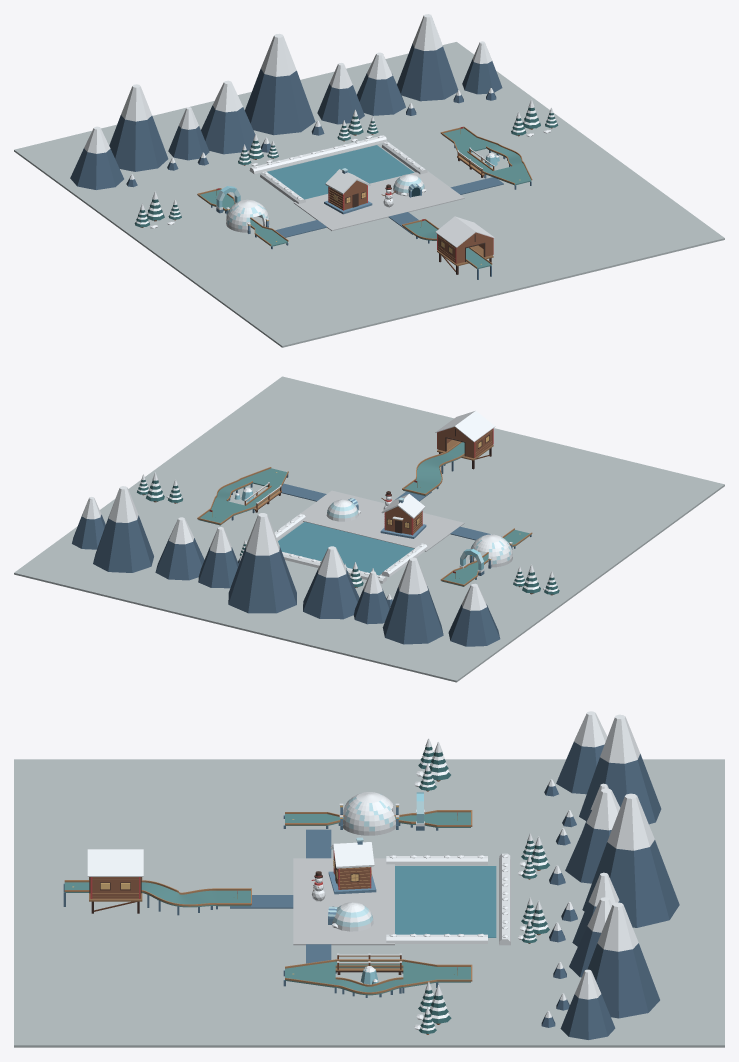
The model's file is district.glb.
3 views of the same model, one above another, from view 1: azimuth 30°, elevation 25°; view 2: azimuth 150°, elevation 25°; view 3: azimuth 270°, elevation 25° (orthographic). The views are drawn at different scales.
Visible parts, largest first — view 1: Frosty_District_Dressing, DistrictScenery_3__Frosty_MountainBackdrop_Standard, DistrictScenery_4__Frosty_MountainBackdrop_Standard, DistrictScenery_5__Frosty_MountainBackdrop_Standard, IcebergChoice__Frosty_IcebergChoice_Surface, DistrictScenery_0__Frosty_Cabin_Standard, LodgeBalcony_1__Frosty_LodgeRoof_Standard, LodgeBalcony_0__Frosty_LodgeGatehouse_Standard, DistrictScenery_7__Frosty_SnowyPineGrove_Standard, DistrictScenery_6__Frosty_SnowyPineGrove_Standard, IglooPassage__Frosty_IglooPassage_Surface, LodgeBalcony__Frosty_LodgeBalcony_Surface (+4 smaller); view 2: Frosty_District_Dressing, DistrictScenery_3__Frosty_MountainBackdrop_Standard, DistrictScenery_4__Frosty_MountainBackdrop_Standard, DistrictScenery_5__Frosty_MountainBackdrop_Standard, IcebergChoice__Frosty_IcebergChoice_Surface, DistrictScenery_0__Frosty_Cabin_Standard, LodgeBalcony__Frosty_LodgeBalcony_Surface, LodgeBalcony_1__Frosty_LodgeRoof_Standard, LodgeBalcony_0__Frosty_LodgeGatehouse_Standard, IglooPassage__Frosty_IglooPassage_Surface, DistrictScenery_6__Frosty_SnowyPineGrove_Standard, DistrictScenery_7__Frosty_SnowyPineGrove_Standard (+3 smaller); view 3: Frosty_District_Dressing, DistrictScenery_3__Frosty_MountainBackdrop_Standard, DistrictScenery_5__Frosty_MountainBackdrop_Standard, DistrictScenery_4__Frosty_MountainBackdrop_Standard, IcebergChoice__Frosty_IcebergChoice_Surface, DistrictScenery_0__Frosty_Cabin_Standard, LodgeBalcony__Frosty_LodgeBalcony_Surface, LodgeBalcony_1__Frosty_LodgeRoof_Standard, IcebergChoice__Frosty_IcebergChoice_Rails, IglooPassage__Frosty_IglooPassage_Surface, LodgeBalcony_0__Frosty_LodgeGatehouse_Standard, DistrictScenery_1__Frosty_Igloo_Standard (+9 smaller).
Part boxes in pixels (bbox=[...]): Frosty_District_Dressing: bbox=[14, 42, 724, 347]; DistrictScenery_3__Frosty_MountainBackdrop_Standard: bbox=[201, 33, 364, 154]; DistrictScenery_4__Frosty_MountainBackdrop_Standard: bbox=[70, 84, 209, 189]; DistrictScenery_5__Frosty_MountainBackdrop_Standard: bbox=[357, 14, 502, 115]; IcebergChoice__Frosty_IcebergChoice_Surface: bbox=[442, 128, 531, 185]; DistrictScenery_0__Frosty_Cabin_Standard: bbox=[324, 168, 372, 214]; LodgeBalcony_1__Frosty_LodgeRoof_Standard: bbox=[435, 216, 495, 247]; LodgeBalcony_0__Frosty_LodgeGatehouse_Standard: bbox=[437, 234, 493, 263]; DistrictScenery_7__Frosty_SnowyPineGrove_Standard: bbox=[511, 99, 558, 136]; DistrictScenery_6__Frosty_SnowyPineGrove_Standard: bbox=[134, 191, 181, 228]; IglooPassage__Frosty_IglooPassage_Surface: bbox=[198, 189, 287, 246]; LodgeBalcony__Frosty_LodgeBalcony_Surface: bbox=[403, 220, 491, 269]; Frosty_District_Dressing: bbox=[14, 376, 724, 682]; DistrictScenery_3__Frosty_MountainBackdrop_Standard: bbox=[198, 513, 359, 619]; DistrictScenery_4__Frosty_MountainBackdrop_Standard: bbox=[353, 557, 500, 646]; DistrictScenery_5__Frosty_MountainBackdrop_Standard: bbox=[72, 486, 204, 580]; IcebergChoice__Frosty_IcebergChoice_Surface: bbox=[198, 468, 287, 525]; DistrictScenery_0__Frosty_Cabin_Standard: bbox=[380, 494, 426, 538]; LodgeBalcony__Frosty_LodgeBalcony_Surface: bbox=[403, 442, 464, 495]; LodgeBalcony_1__Frosty_LodgeRoof_Standard: bbox=[435, 410, 495, 442]; LodgeBalcony_0__Frosty_LodgeGatehouse_Standard: bbox=[437, 428, 493, 458]; IglooPassage__Frosty_IglooPassage_Surface: bbox=[441, 530, 530, 586]; DistrictScenery_6__Frosty_SnowyPineGrove_Standard: bbox=[513, 564, 559, 595]; DistrictScenery_7__Frosty_SnowyPineGrove_Standard: bbox=[137, 472, 182, 503]; Frosty_District_Dressing: bbox=[14, 759, 724, 1047]; DistrictScenery_3__Frosty_MountainBackdrop_Standard: bbox=[549, 788, 679, 946]; DistrictScenery_5__Frosty_MountainBackdrop_Standard: bbox=[541, 897, 659, 1039]; DistrictScenery_4__Frosty_MountainBackdrop_Standard: bbox=[544, 711, 661, 845]; IcebergChoice__Frosty_IcebergChoice_Surface: bbox=[285, 961, 470, 995]; DistrictScenery_0__Frosty_Cabin_Standard: bbox=[328, 837, 376, 894]; LodgeBalcony__Frosty_LodgeBalcony_Surface: bbox=[64, 882, 250, 907]; LodgeBalcony_1__Frosty_LodgeRoof_Standard: bbox=[87, 849, 143, 876]; IcebergChoice__Frosty_IcebergChoice_Rails: bbox=[285, 959, 472, 994]; IglooPassage__Frosty_IglooPassage_Surface: bbox=[285, 812, 470, 827]; LodgeBalcony_0__Frosty_LodgeGatehouse_Standard: bbox=[89, 877, 141, 898]; DistrictScenery_1__Frosty_Igloo_Standard: bbox=[328, 902, 373, 931].
Size of what is drawn, in the model's own units: 80 by 14.8 by 84.
